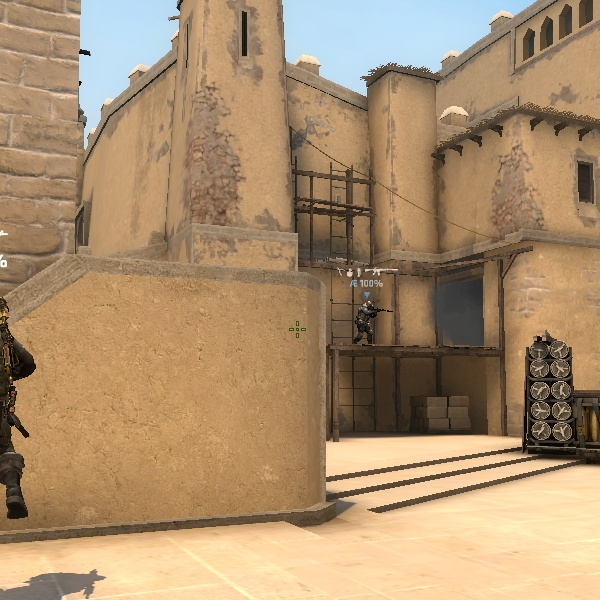t_body: (349, 296, 381, 345)
